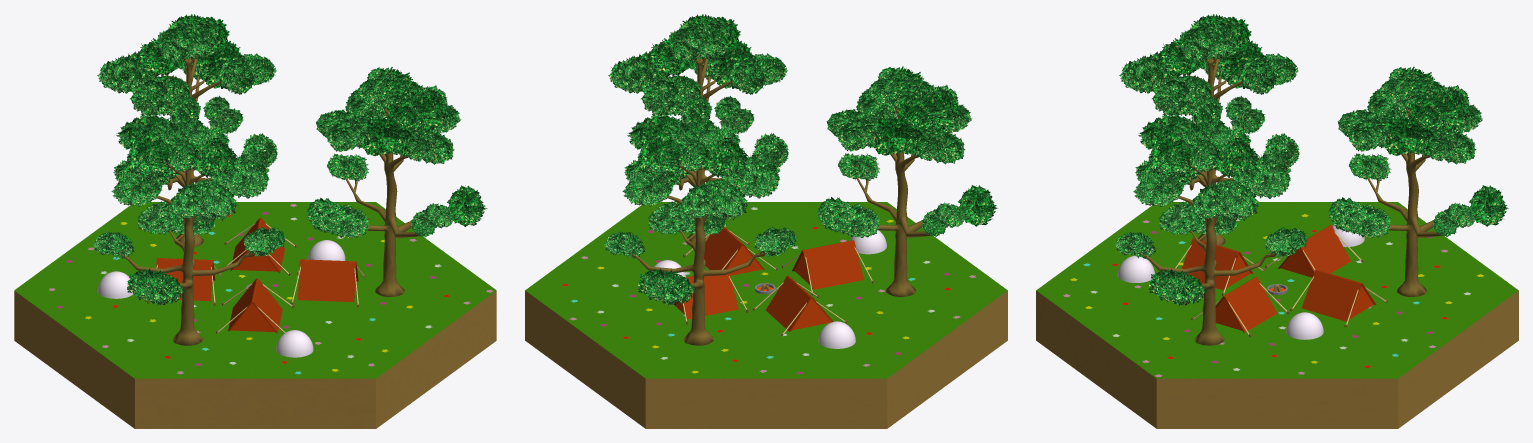
File: Tuile_Foret_Village_Niv1.fbx
3 views of the same model, side by side, from view 1: azimuth 30°, elevation 25°; view 2: azimuth 150°, elevation 25°; view 3: azimuth 270°, elevation 25° (orthographic).
Visible parts, largest first — view 1: Tuile, Arbres, Tente.003, Sphere, Tente.002, Tente.004, Tente.001; view 2: Tuile, Arbres, Tente.002, Tente.001, Tente.003, Sphere, Tente.004; view 3: Tuile, Arbres, Tente.004, Tente.003, Tente.001, Sphere, Tente.002.
Boxes of the visible parts, <box> form: Tuile: <box>14,202,496,428</box>; Arbres: <box>93,14,487,345</box>; Tente.003: <box>290,259,365,307</box>; Sphere: <box>97,240,345,357</box>; Tente.002: <box>216,278,294,333</box>; Tente.004: <box>224,217,297,275</box>; Tente.001: <box>147,258,222,305</box>; Tuile: <box>525,202,1007,428</box>; Arbres: <box>604,14,997,345</box>; Tente.002: <box>782,240,874,295</box>; Tente.001: <box>752,275,847,335</box>; Tente.003: <box>683,227,777,275</box>; Sphere: <box>651,230,886,348</box>; Tente.004: <box>673,269,748,324</box>; Tuile: <box>1036,202,1518,428</box>; Arbres: <box>1114,14,1508,345</box>; Tente.004: <box>1290,269,1387,327</box>; Tente.003: <box>1191,276,1289,337</box>; Tente.001: <box>1265,225,1363,277</box>; Sphere: <box>1117,224,1364,339</box>; Tente.002: <box>1175,238,1264,295</box>.
Size of the model in its own units: 107 by 75.08 by 124.
